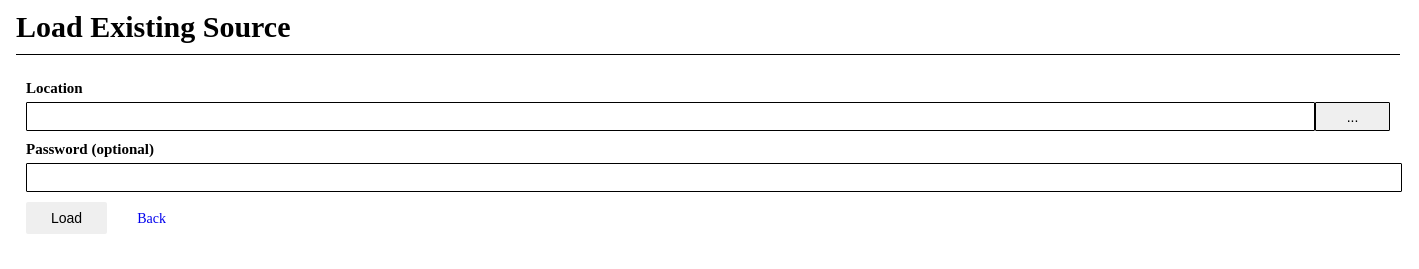
Test case: should show errors if the form is not filled
Click the button "Load".
click(67, 218)  # box [26,202,107,234]
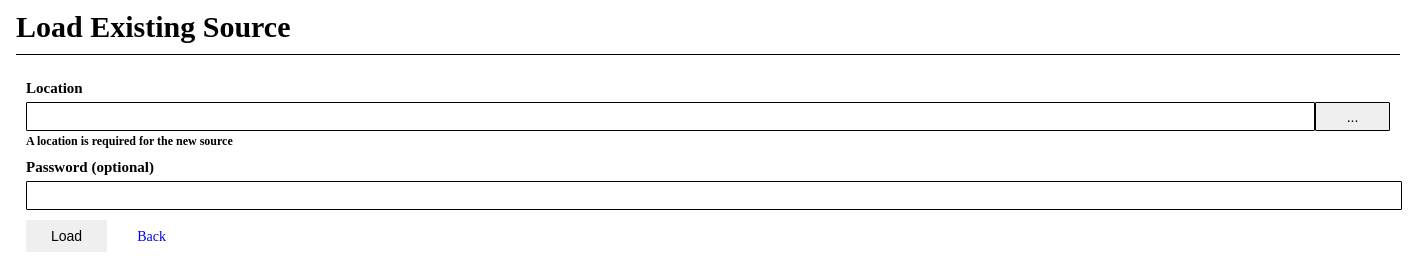
Result: the text "A location is required for the new source" is shown at [26,134,233,148]
